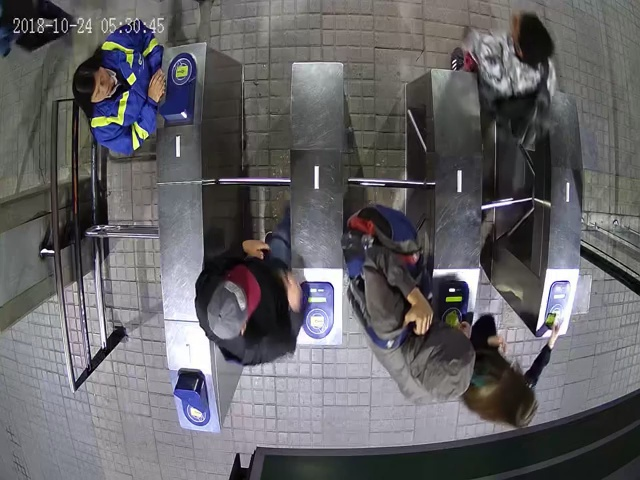Chaleco_azul: (72, 19, 166, 154)
